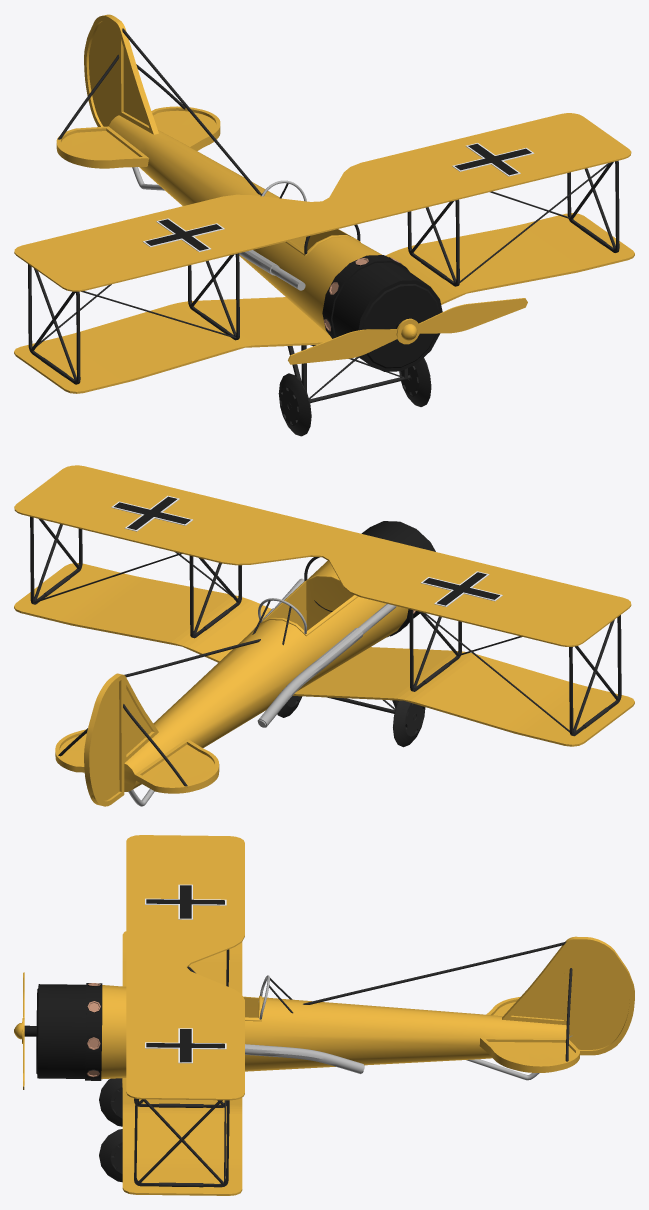
Rendered from airplane.glb.
The picture shows the model from 3 angles, top to bottom: view 1: azimuth 30°, elevation 25°; view 2: azimuth 150°, elevation 25°; view 3: azimuth 270°, elevation 25°; orthographic projection. The views are drawn at different scales.
Visible parts, largest first — view 1: chassis, supports, helix; view 2: chassis, supports; view 3: chassis, supports.
Part boxes in pixels (box(x1,y1,x2,y2)): chassis: box(14, 14, 634, 393); supports: box(28, 28, 619, 436); helix: box(288, 298, 527, 364); chassis: box(14, 465, 634, 806); supports: box(30, 516, 621, 786); chassis: box(24, 835, 634, 1195); supports: box(99, 941, 572, 1187).
Size of the model in its own units: 13.22 by 5.06 by 13.15.
2 materials, 1 textured.
